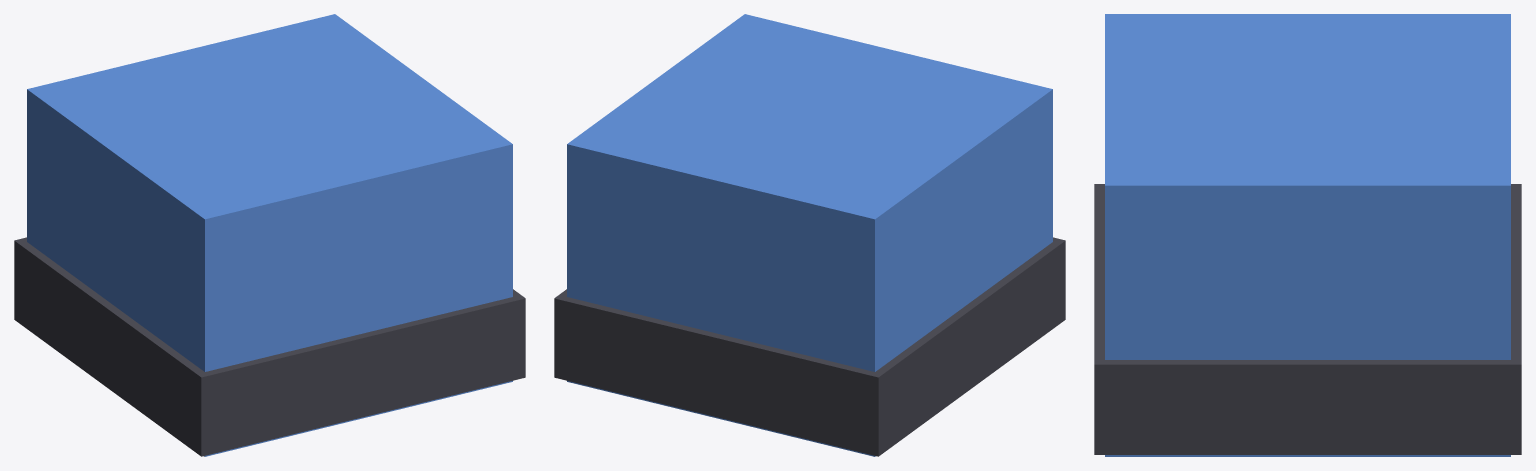
File: esquiador_manga_inf.glb
3 renders of one model, left to right at view 1: azimuth 30°, elevation 25°; view 2: azimuth 150°, elevation 25°; view 3: azimuth 270°, elevation 25°, orthographic. The views are drawn at different scales.
Parts seen in each view (by area): view 1: esquiador_manga_inf; view 2: esquiador_manga_inf; view 3: esquiador_manga_inf.
Part boxes in pixels (bbox=[...]): esquiador_manga_inf: bbox=[14, 14, 525, 456]; esquiador_manga_inf: bbox=[554, 14, 1065, 456]; esquiador_manga_inf: bbox=[1094, 14, 1521, 456].
Bounding box in the file's own units: 0.3 × 0.21 × 0.3.
